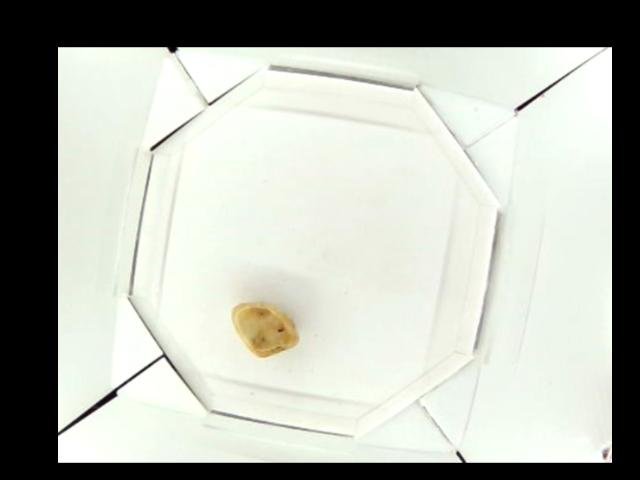Pebble: (231, 300, 298, 359)
